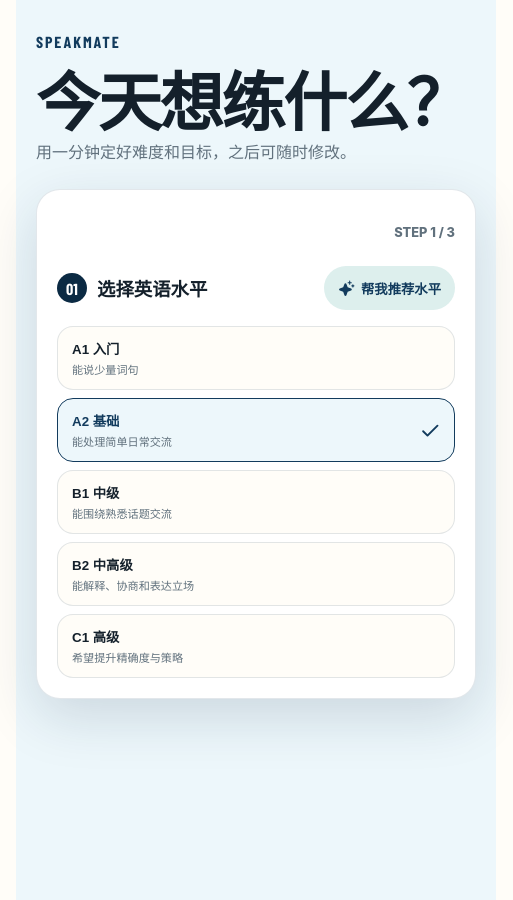
Test case: OnboardingFlow › offers a deterministic five-question level recommendation
The image size is (513, 900).
Click the button "帮我推荐水平".
click(390, 288)  # box [324,266,455,310]
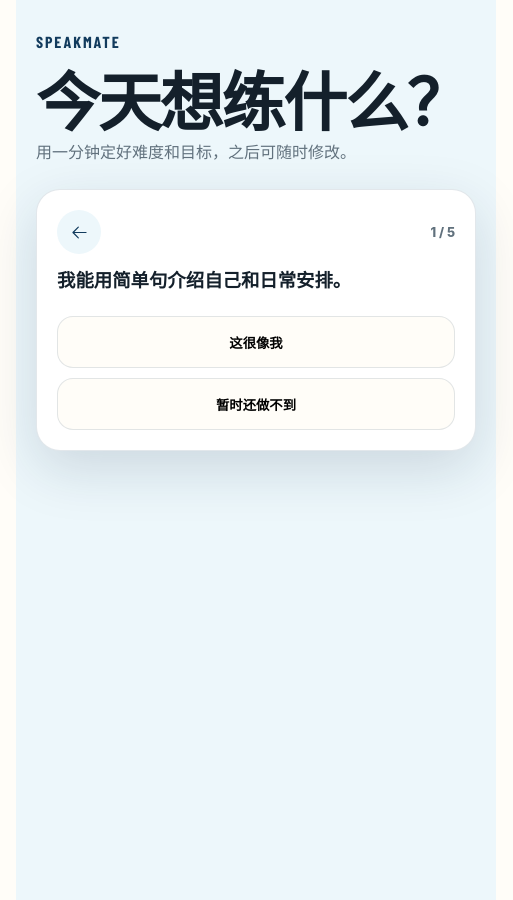
Check: the text "1 / 5" is shown, box [430,225,455,240]
Check: the button "这很像我" is shown, box [57,316,455,368]
